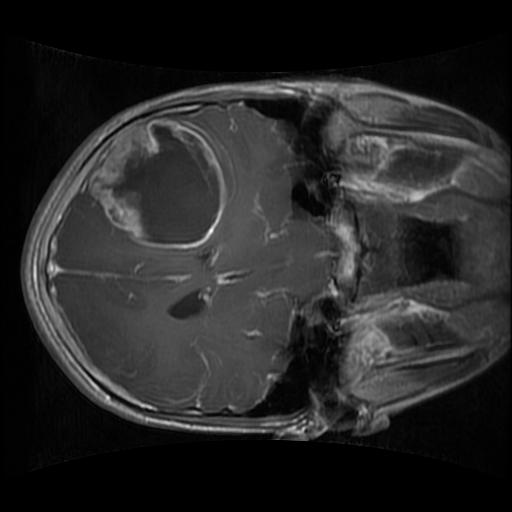glioma: (84, 119, 227, 252)
